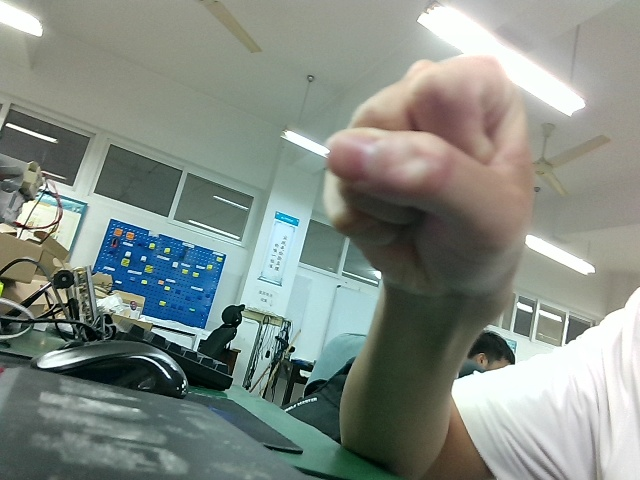stone: (313, 45, 547, 332)
